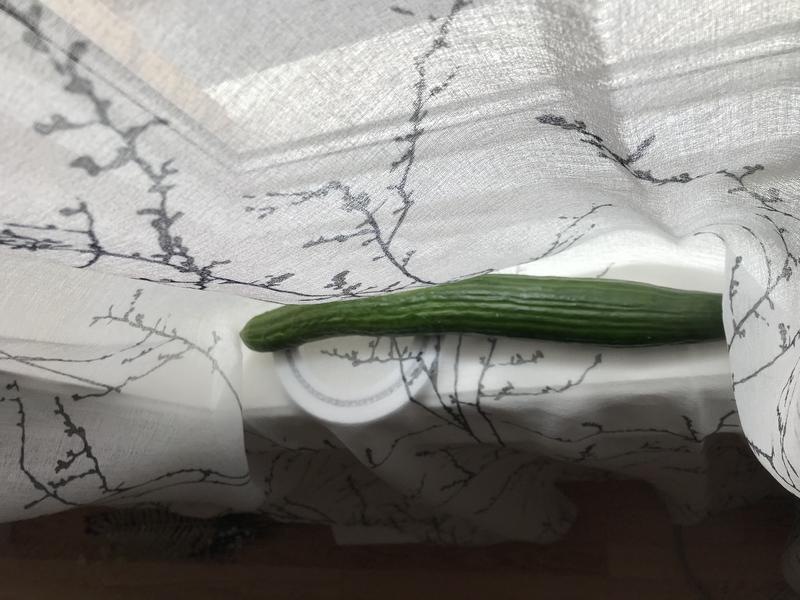cucumber: (232, 270, 749, 380)
